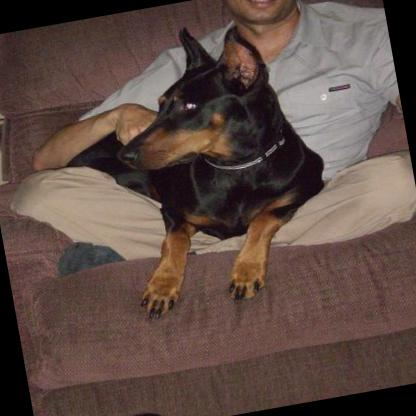Doberman: (35, 0, 346, 330)
